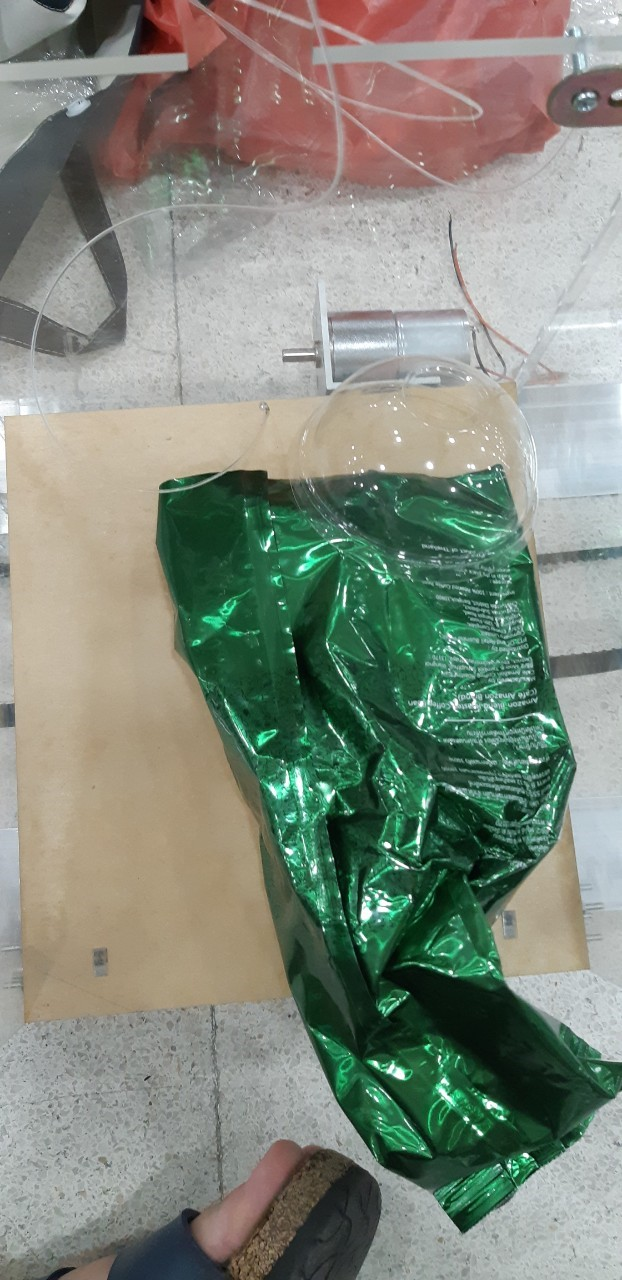Others: (158, 473, 622, 1235)
